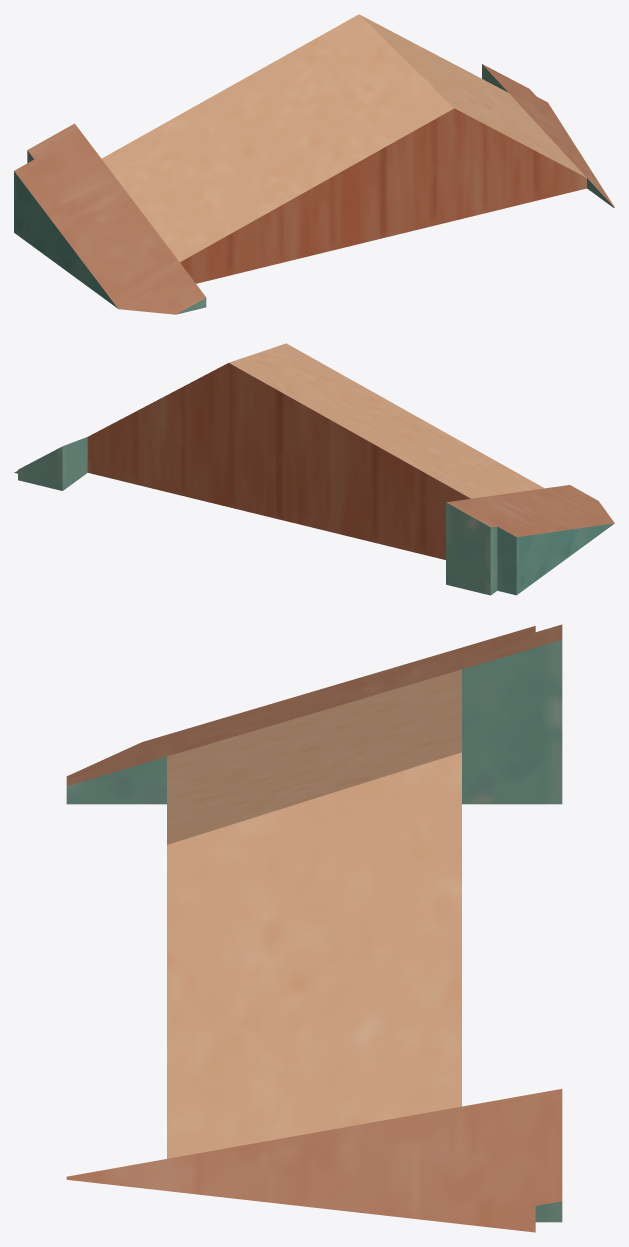
The model's file is towngate_s10.fbx.
3 renders of one model, top to bottom at view 1: azimuth 30°, elevation 25°; view 2: azimuth 150°, elevation 25°; view 3: azimuth 270°, elevation 25°, orthographic. The views are drawn at different scales.
Visible parts, largest first — view 1: towngate_s10; view 2: towngate_s10; view 3: towngate_s10.
Boxes of the visible parts, left/top/right/bottom form: towngate_s10: left=14, top=14, right=614, bottom=314; towngate_s10: left=14, top=343, right=614, bottom=595; towngate_s10: left=66, top=624, right=562, bottom=1232.
Bounding box in the file's own units: 7.87 × 2.16 × 3.36.
